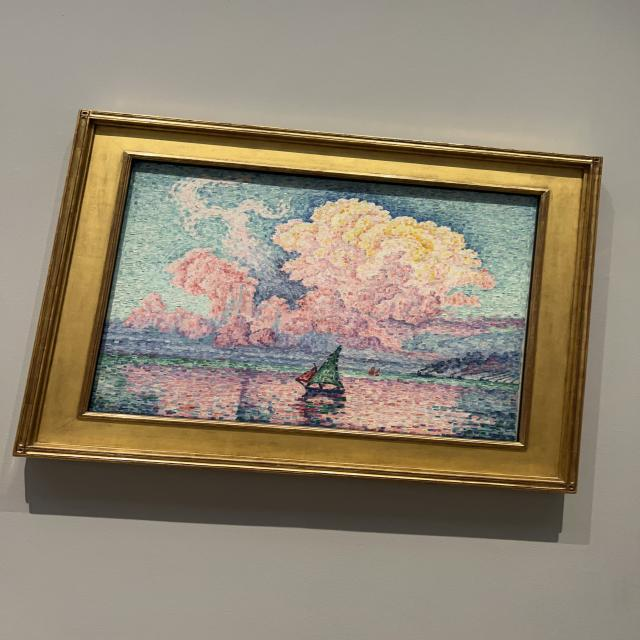sunrise: (95, 171, 535, 432)
